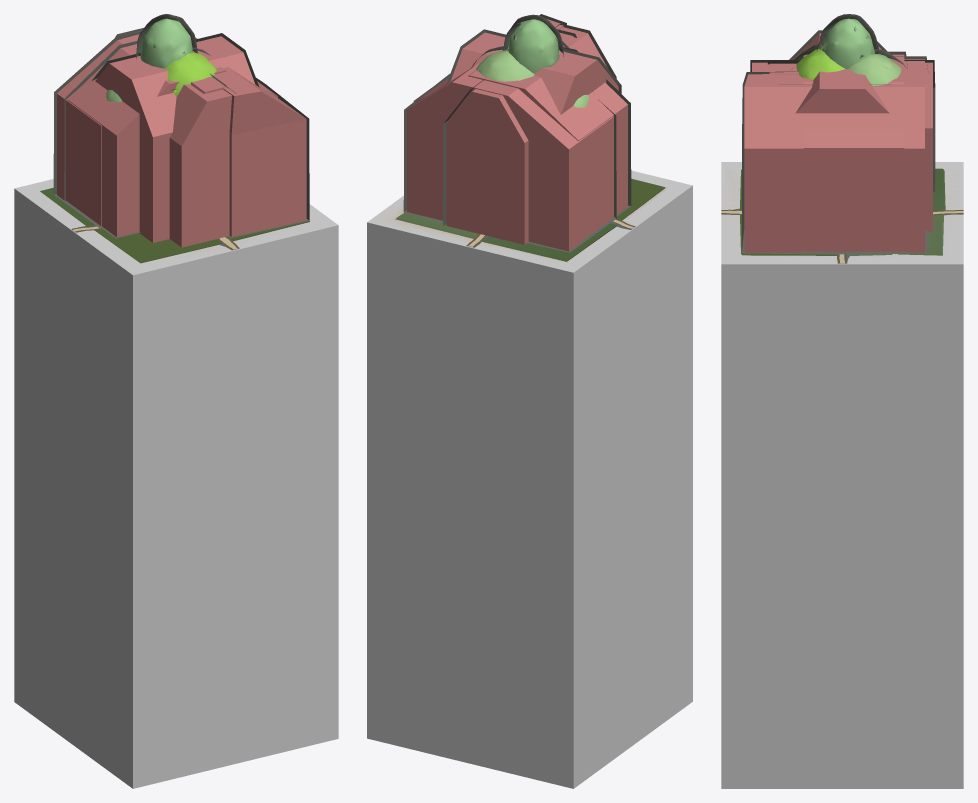
File: models_2.gltf
3 renders of one model, left to right at view 1: azimuth 30°, elevation 25°; view 2: azimuth 150°, elevation 25°; view 3: azimuth 270°, elevation 25°, orthographic. The views are drawn at different scales.
Parts seen in each view (by area): view 1: LandTile, House3, House2, House, House4, FarmTile, Tree4, Tree2; view 2: LandTile, House3, House2, FarmTile, House4, House, Tree4, CityTile, Tree1; view 3: LandTile, House3, House4, FarmTile, House, Tree4, House2, Tree1, CityTile, Tree2.
Part boxes in pixels (<box>): LandTile: <box>14,179,338,788</box>; House3: <box>53,31,309,238</box>; House2: <box>115,28,236,247</box>; House: <box>92,33,259,242</box>; House4: <box>64,40,280,238</box>; FarmTile: <box>16,179,337,274</box>; Tree4: <box>136,14,197,68</box>; Tree2: <box>164,47,216,96</box>; LandTile: <box>367,170,692,788</box>; House3: <box>403,14,616,252</box>; House2: <box>443,23,616,244</box>; FarmTile: <box>369,171,691,271</box>; House4: <box>413,29,631,243</box>; House: <box>446,29,621,114</box>; Tree4: <box>503,14,563,73</box>; CityTile: <box>369,171,686,271</box>; Tree1: <box>471,45,592,107</box>; LandTile: <box>721,162,963,788</box>; House3: <box>742,56,928,254</box>; House4: <box>767,51,907,252</box>; FarmTile: <box>721,162,963,264</box>; House: <box>789,30,889,113</box>; Tree4: <box>816,14,879,68</box>; House2: <box>750,60,935,231</box>; Tree1: <box>848,49,906,85</box>; CityTile: <box>721,162,963,264</box>; Tree2: <box>791,44,844,79</box>.
Size of the model in its own units: 1 by 3.28 by 1.
